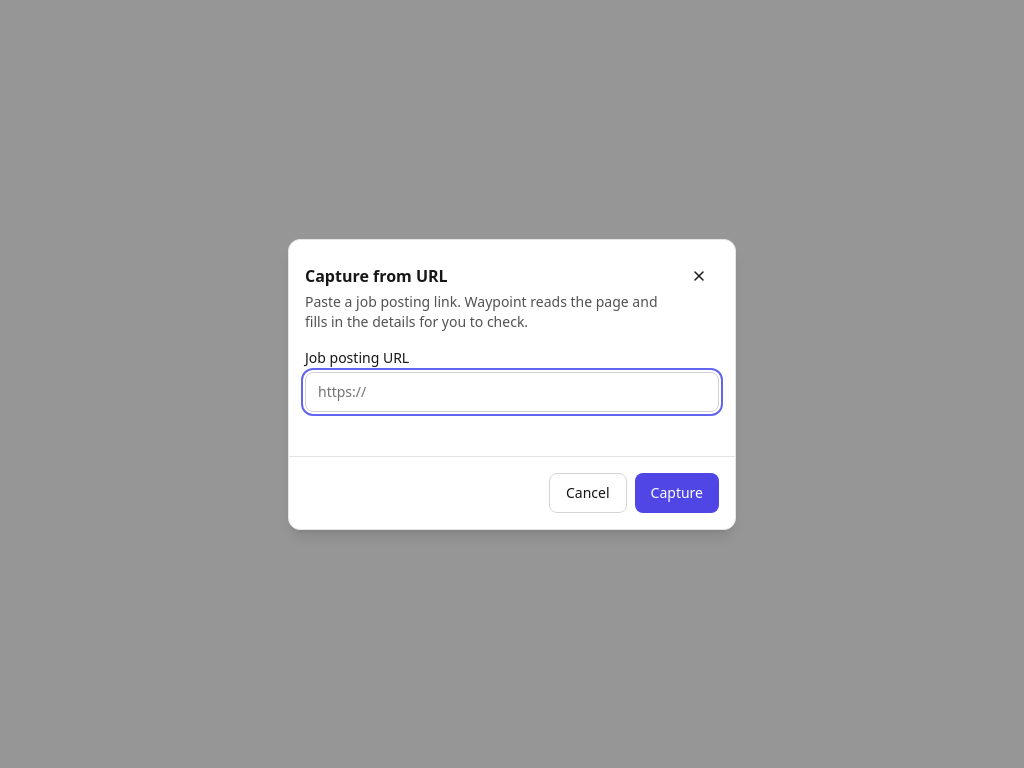
Scenario: CaptureDialog › disables the button while capturing, then hands a 200 capture over
In the field labelled "Job posting URL": (512, 392) [305,372,719,412], type "https://acme.example/jobs/1"
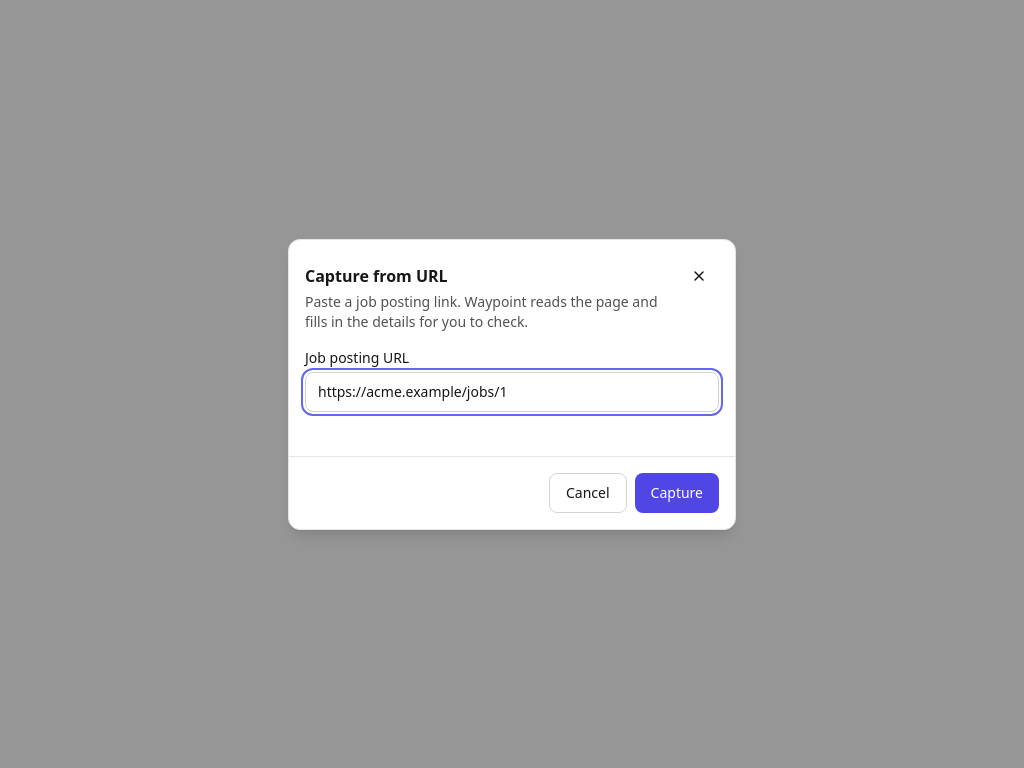
Click the button "Capture": (677, 492) [635,472,719,512]
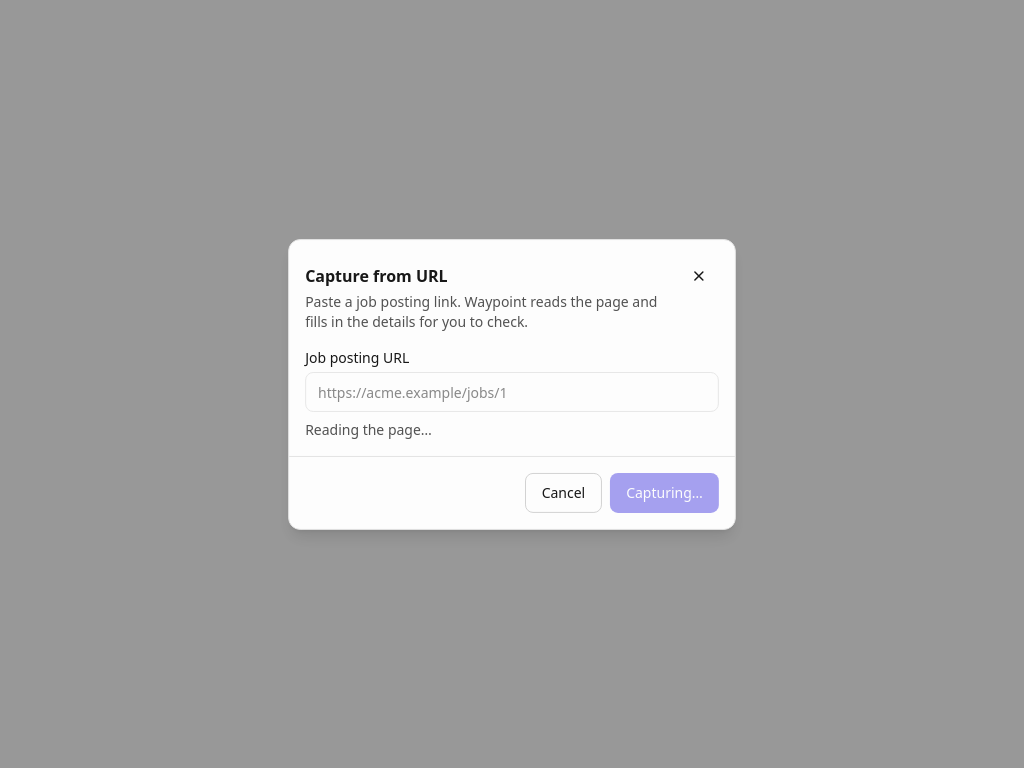
Check: the button "Capturing…" is disabled, box [610,472,717,512]
Check: the field labelled "Job posting URL" is disabled, box [307,372,717,411]
Check: the text "Reading the page…" is shown, box [307,419,432,438]
